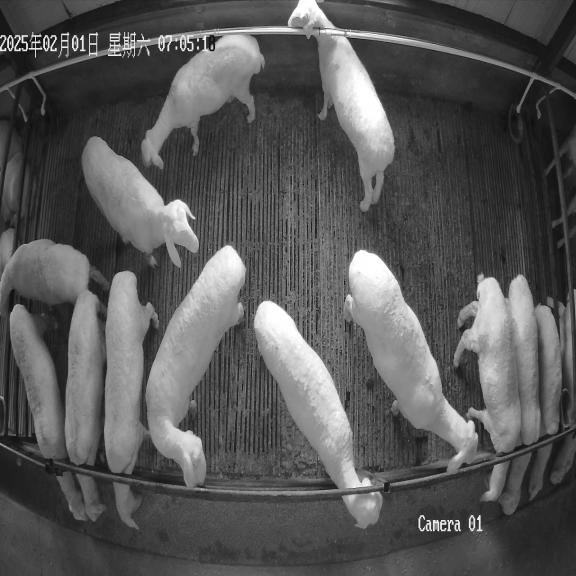eating: (9, 304, 89, 521), (453, 274, 521, 501), (104, 271, 159, 529), (499, 274, 541, 515), (65, 290, 107, 521), (528, 304, 562, 501)
stand: (343, 250, 478, 473), (254, 301, 382, 529), (146, 246, 245, 488), (288, 0, 395, 212), (141, 35, 265, 169), (82, 136, 199, 267), (0, 239, 109, 316)
